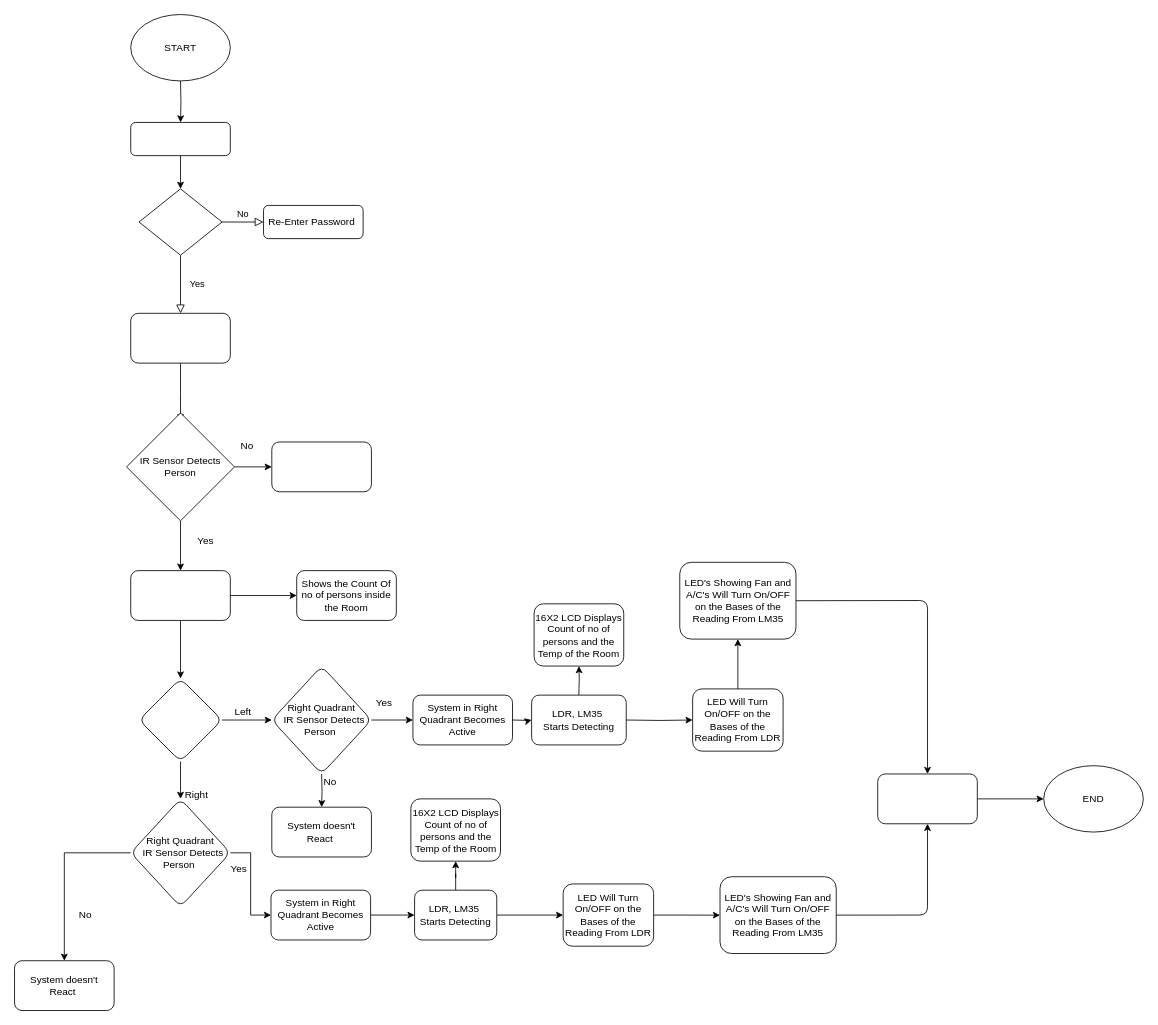
The diagram is 1158 pixels wide and 1025 high, and some of its shapes have lost their labels. The centre of each missing label's shape, as x and y in pixels:
"All the Data Will Be Transferred Using WIFI Module To the User" belongs at point 927,798.
"Choose Left or Right" belongs at point 180,720.
"Correct Password" belongs at point 180,221.
"Enter Password in 4X4 KeyPad" belongs at point 180,139.
"Internal System Starts" belongs at point 180,595.
"Servo-Motor Rotates 90 (Open's Door)" belongs at point 180,337.
"System wont Work" belongs at point 321,466.
